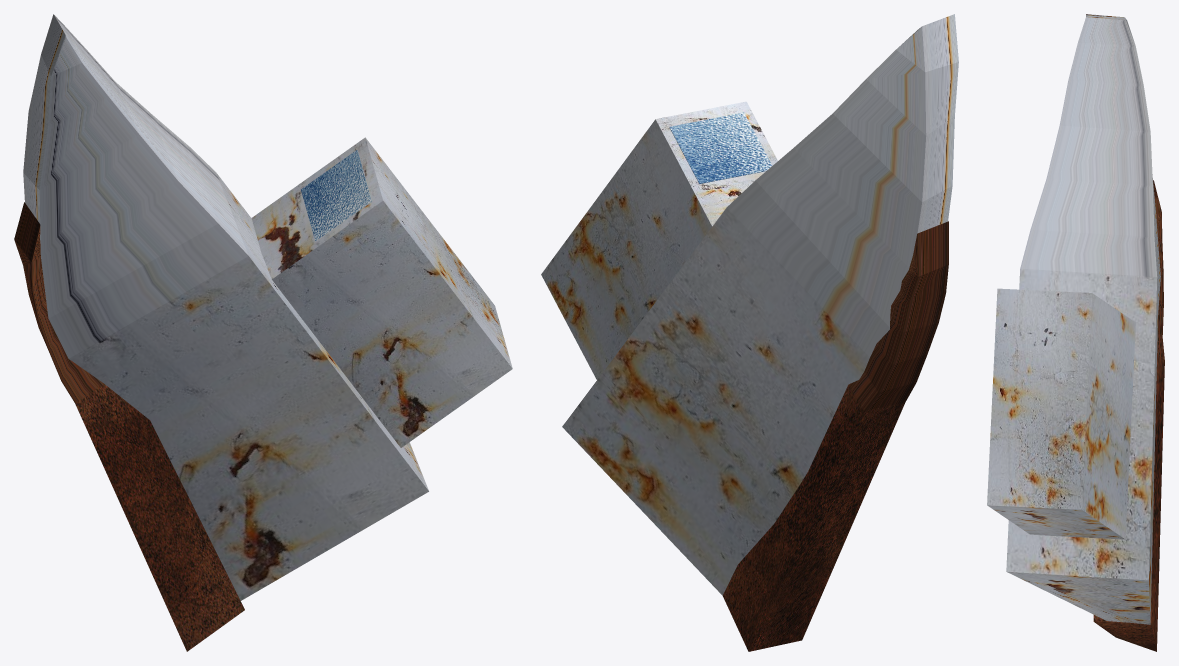
File: boat.fbx
3 views of the same model, side by side, from view 1: azimuth 30°, elevation 25°; view 2: azimuth 150°, elevation 25°; view 3: azimuth 270°, elevation 25° (orthographic). The views are drawn at different scales.
Visible parts, largest first — view 1: Cube.001, Cube.002, Cube, Cube.003; view 2: Cube.001, Cube, Cube.002, Cube.003; view 3: Cube.001, Cube.002, Cube.
Part boxes in pixels (bbox=[...]): Cube.001: bbox=[23, 14, 428, 600]; Cube.002: bbox=[251, 137, 512, 447]; Cube: bbox=[14, 202, 244, 651]; Cube.003: bbox=[301, 150, 371, 241]; Cube.001: bbox=[562, 14, 958, 595]; Cube: bbox=[723, 221, 948, 651]; Cube.002: bbox=[541, 101, 777, 379]; Cube.003: bbox=[669, 112, 771, 183]; Cube.001: bbox=[1006, 14, 1160, 624]; Cube.002: bbox=[987, 288, 1135, 539]; Cube: bbox=[1093, 180, 1164, 651].
Bounding box in the file's own units: 1530 × 2212 × 627.
3 materials, 3 textured.
